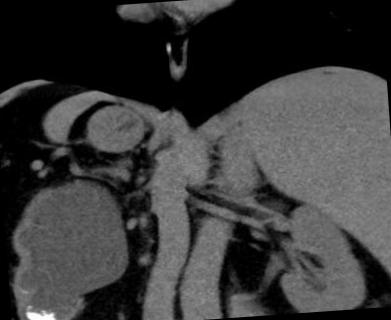Tas_Var: (20, 305, 60, 320)
